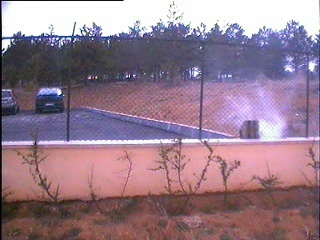smoke: (225, 77, 292, 138)
